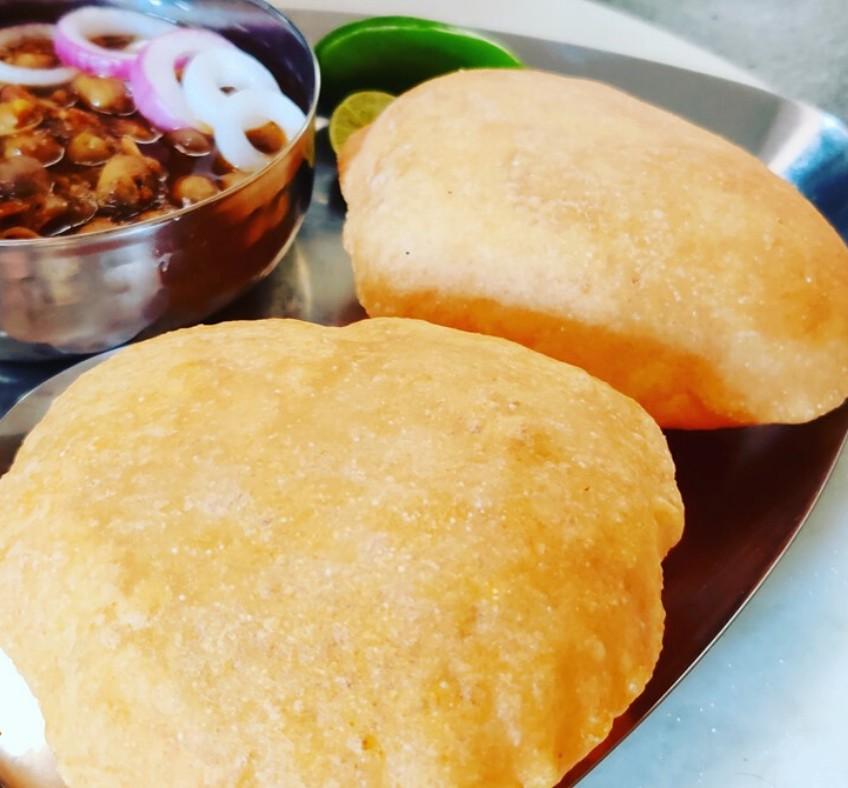Bhatura: (7, 317, 686, 788), (341, 67, 848, 430)
Chole: (0, 0, 284, 240)
